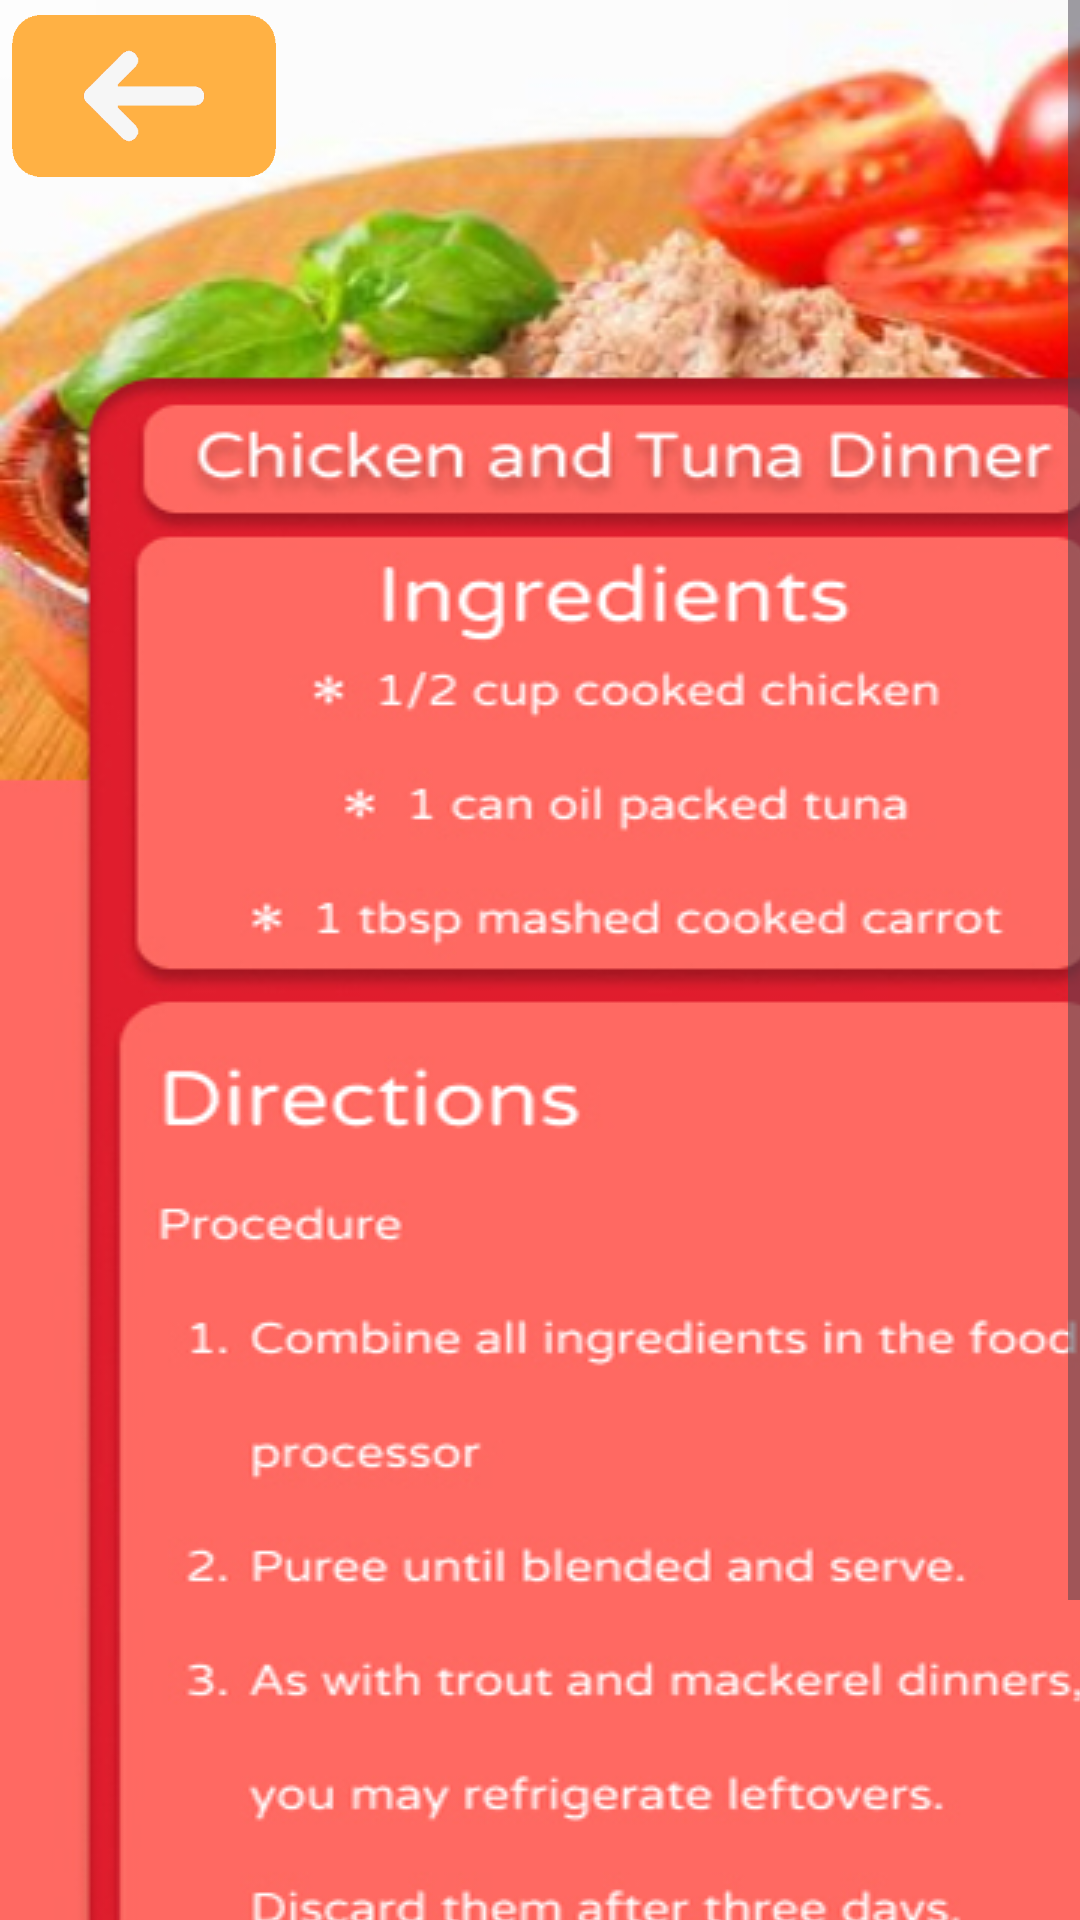

Named icons in this screenshot (1080w x 1920h) and their centers, [x,y]:
backred: [144,96]
